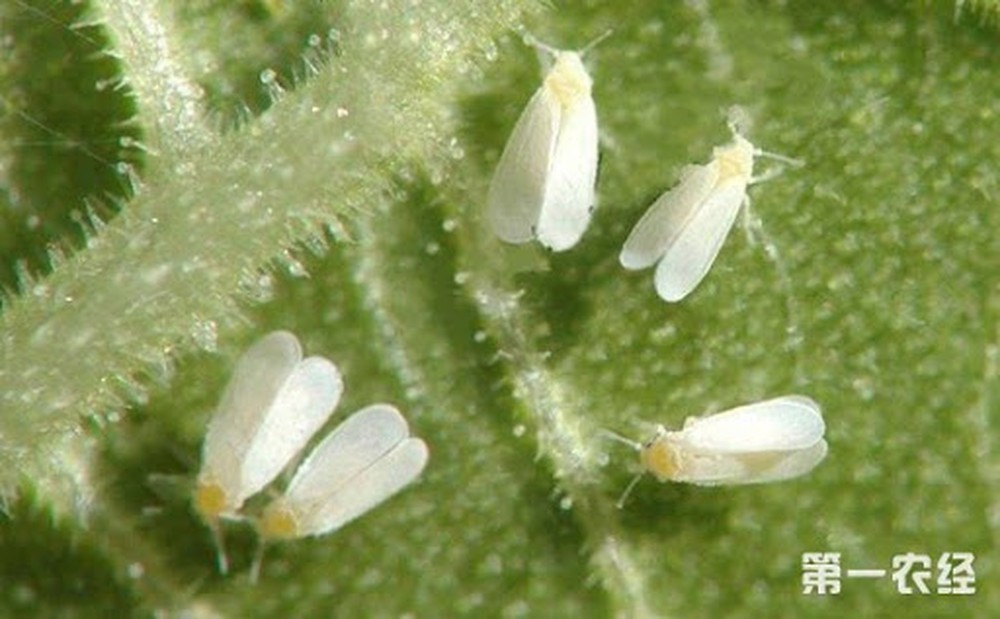Mosca Blanca: (140, 329, 349, 543), (623, 89, 799, 315), (462, 19, 625, 261), (239, 397, 435, 579), (585, 384, 849, 514)
